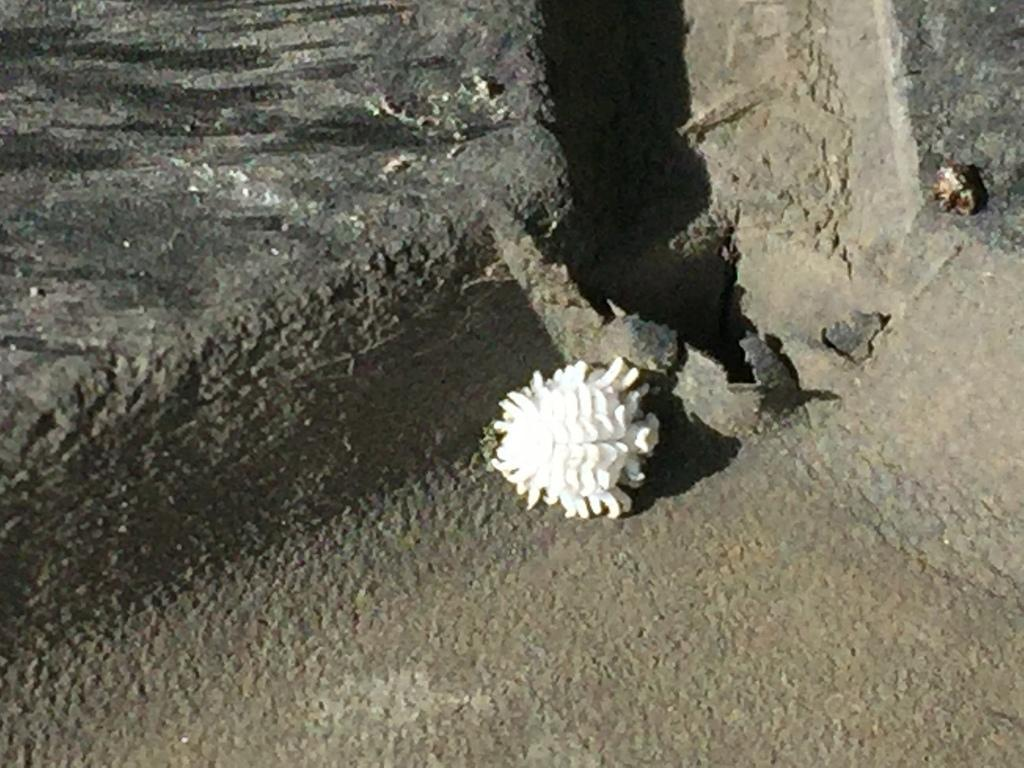ladybug: (489, 355, 664, 522)
